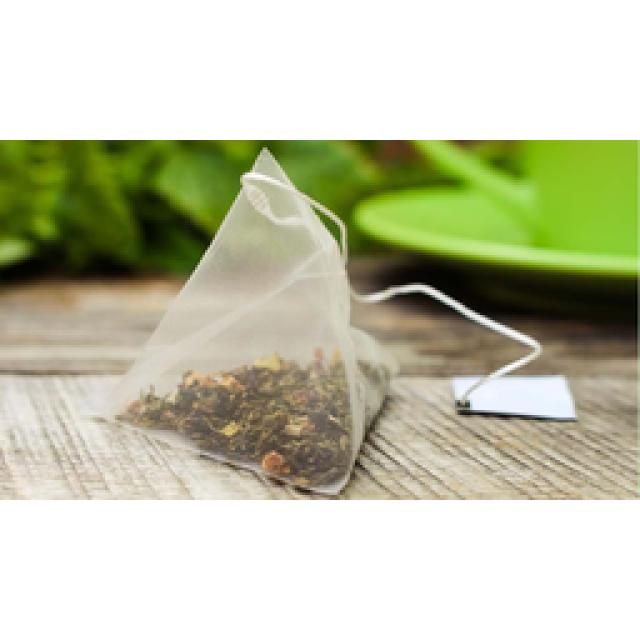tea-bags: (100, 150, 392, 492)
